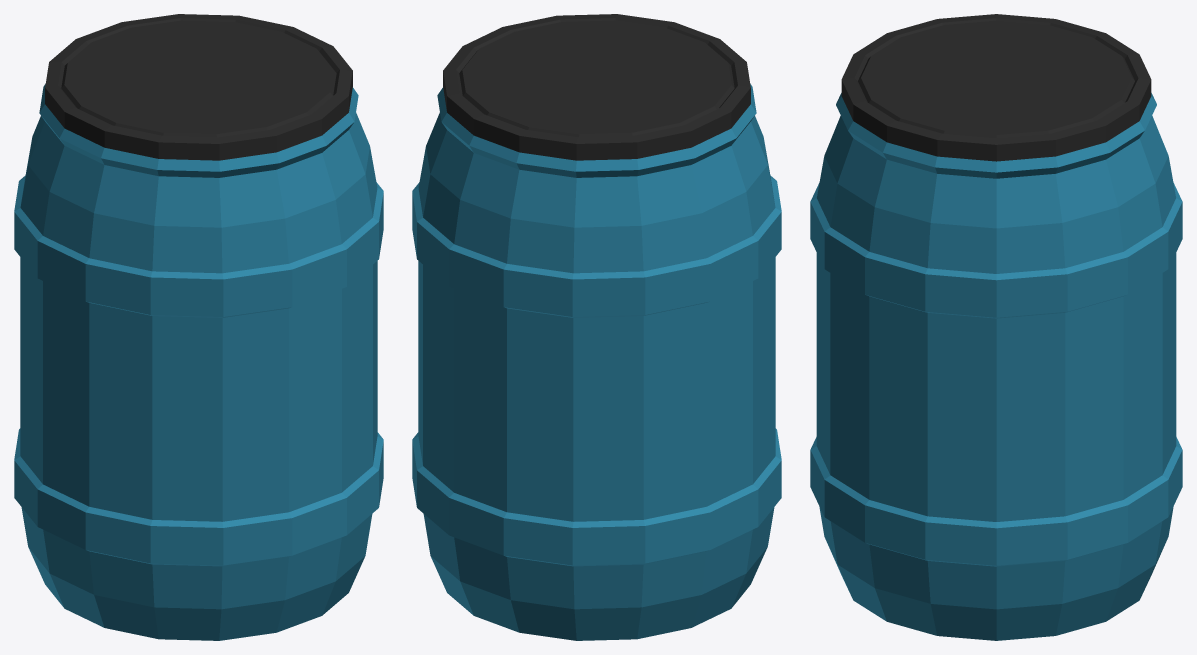
File: SM_barrel_2.gltf
3 renders of one model, left to right at view 1: azimuth 30°, elevation 25°; view 2: azimuth 150°, elevation 25°; view 3: azimuth 270°, elevation 25°, orthographic.
Visible parts, largest first — view 1: SM_barrel_2; view 2: SM_barrel_2; view 3: SM_barrel_2.
Boxes of the visible parts, <box> form: SM_barrel_2: <box>14,14,383,640</box>; SM_barrel_2: <box>412,14,781,640</box>; SM_barrel_2: <box>810,14,1182,640</box>.
Bounding box in the file's own units: 0.7187 × 1.06 × 0.7187.
Materials: 1 (1 with a texture image).
